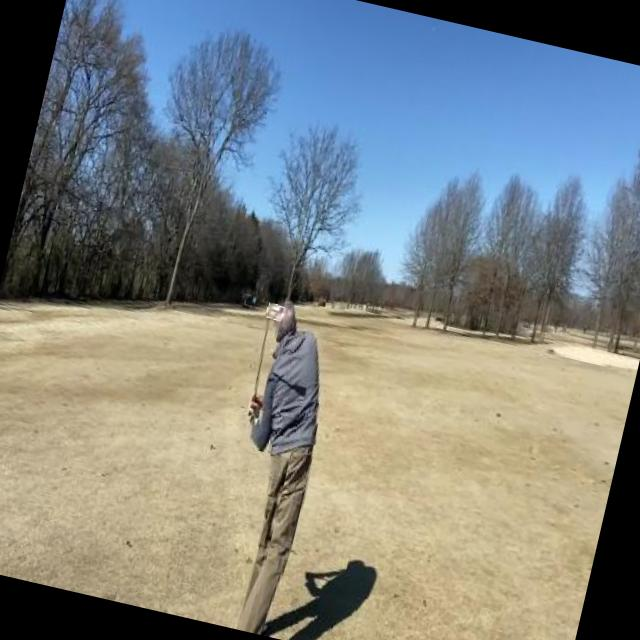club head: (265, 303, 284, 321)
